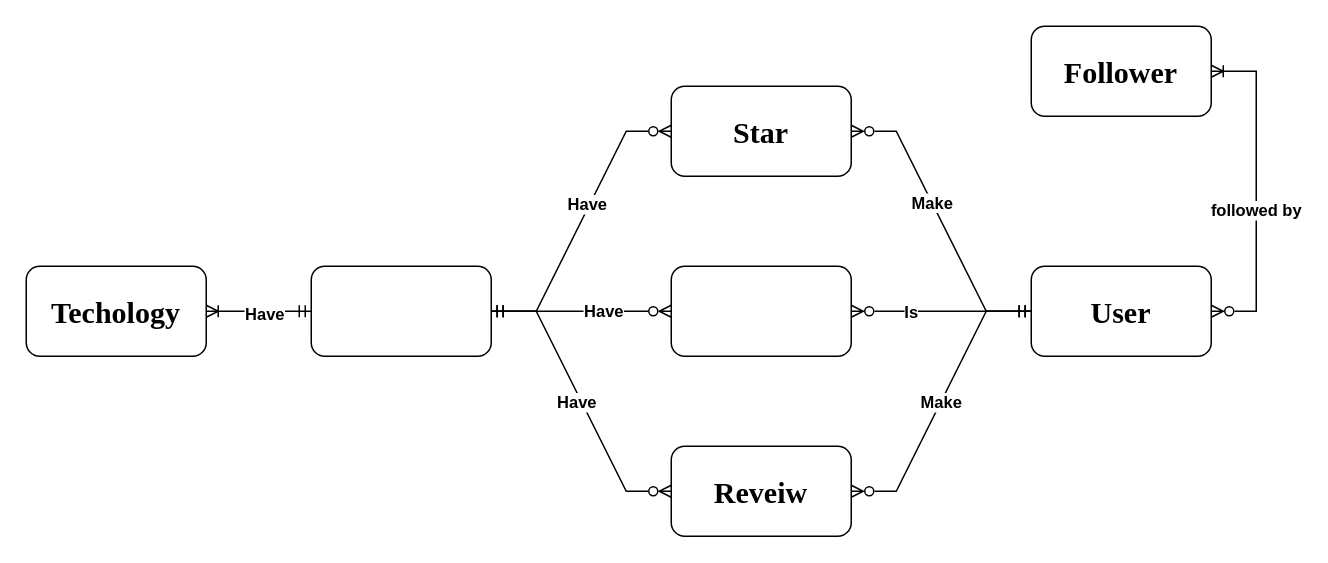
This 1328x563 diagram has some shape labels left out. Each missing label, with the centre of its shape:
Project: the point at 400,310
Viewer: the point at 760,310
